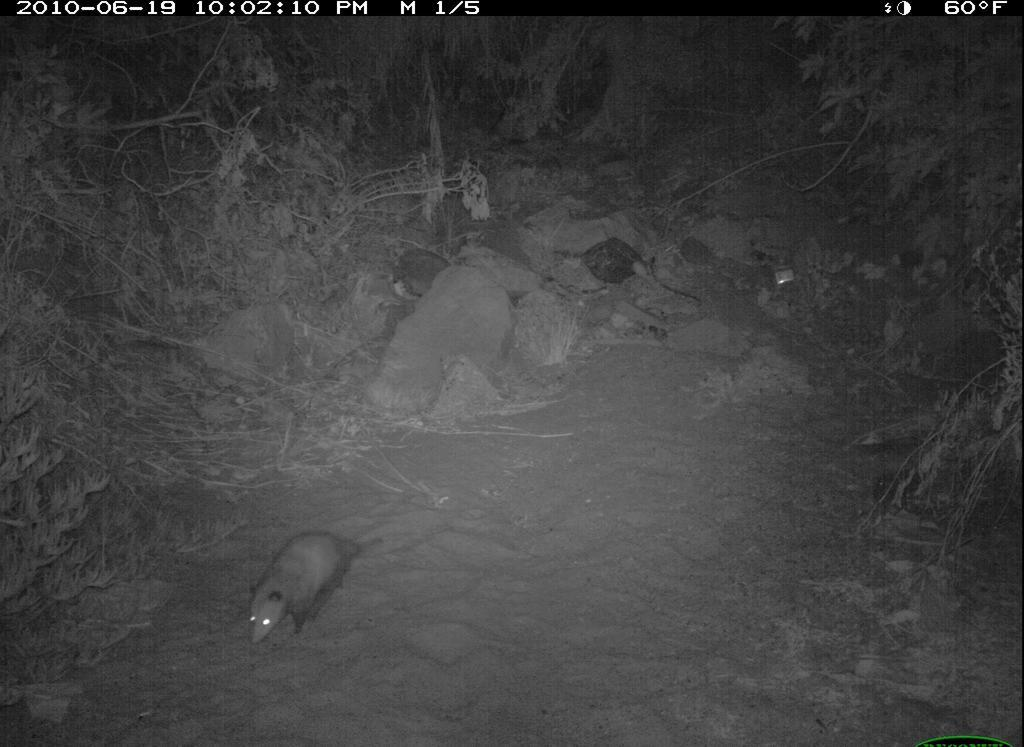opossum: (242, 524, 392, 652)
